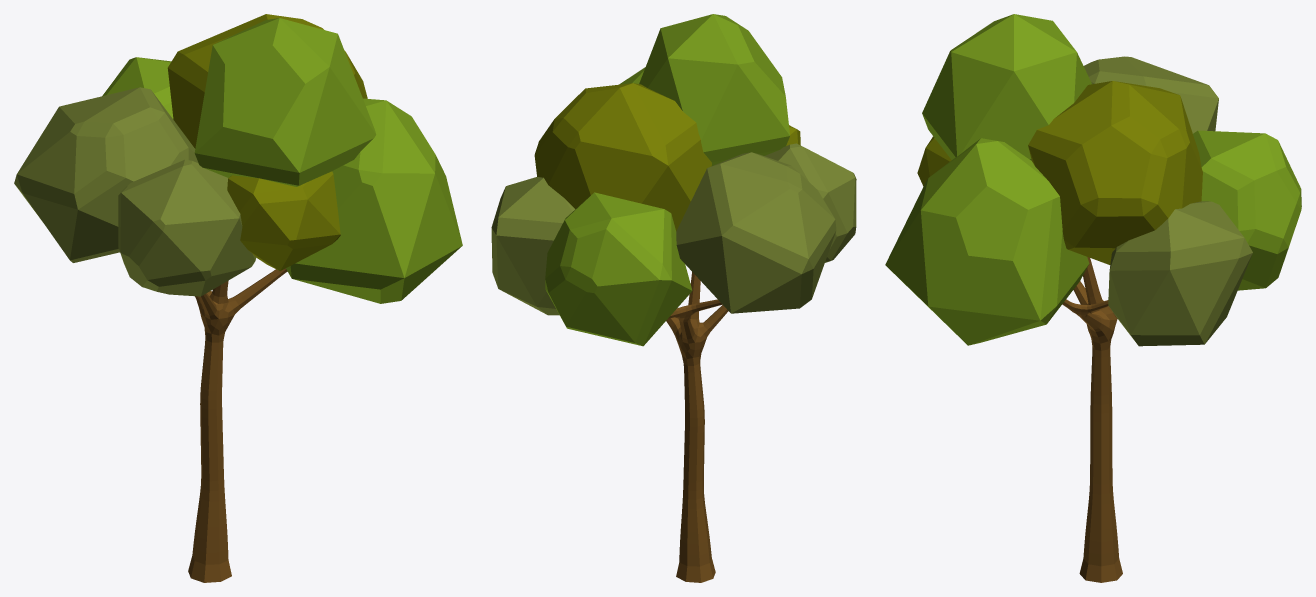
Rendered from small-tree-2.glb.
3 renders of one model, left to right at view 1: azimuth 30°, elevation 25°; view 2: azimuth 150°, elevation 25°; view 3: azimuth 270°, elevation 25°, orthographic. The views are drawn at different scales.
Parts seen in each view (by area): view 1: Small Tree 2; view 2: Small Tree 2; view 3: Small Tree 2.
Part boxes in pixels (x1,y1,x2,y2): Small Tree 2: (14,14,462,582); Small Tree 2: (491,14,856,582); Small Tree 2: (885,14,1301,582).
Size of the model in its own units: 9.8 by 15.91 by 10.51.
